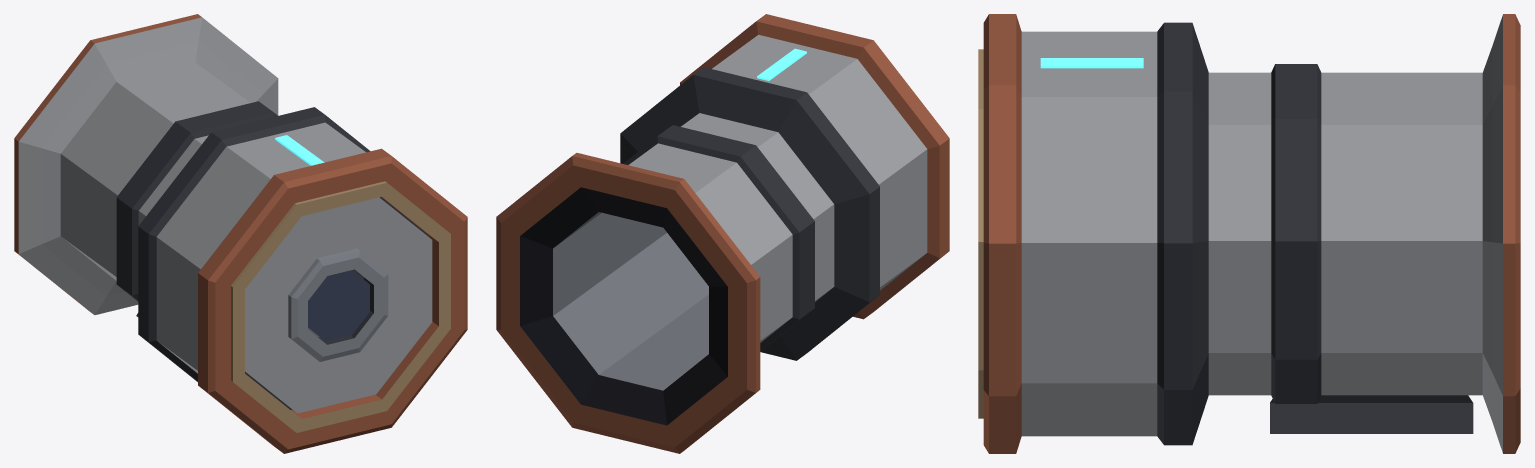
File: airlock-end-cap-acee1d.glb
The picture shows the model from 3 angles, left to right: view 1: azimuth 30°, elevation 25°; view 2: azimuth 150°, elevation 25°; view 3: azimuth 270°, elevation 25°; orthographic projection. The views are drawn at different scales.
Visible parts, largest first — view 1: airlock-shell, airlock-door-leaf, light-strip; view 2: airlock-shell, light-strip; view 3: airlock-shell, light-strip.
Part boxes in pixels (bbox=[...]): airlock-shell: bbox=[14, 14, 467, 453]; airlock-door-leaf: bbox=[245, 197, 432, 413]; light-strip: bbox=[275, 135, 324, 165]; airlock-shell: bbox=[496, 14, 949, 453]; light-strip: bbox=[757, 48, 806, 80]; airlock-shell: bbox=[978, 14, 1520, 453]; light-strip: bbox=[1040, 58, 1143, 68].
Size of the model in its own units: 3 by 3 by 4.
